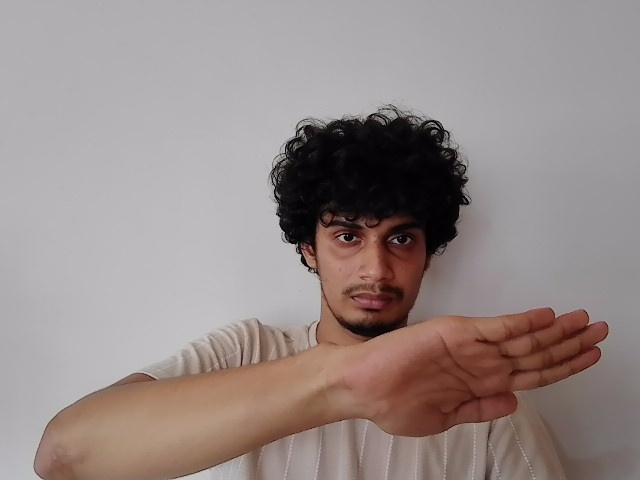hello: (370, 306, 619, 439)
